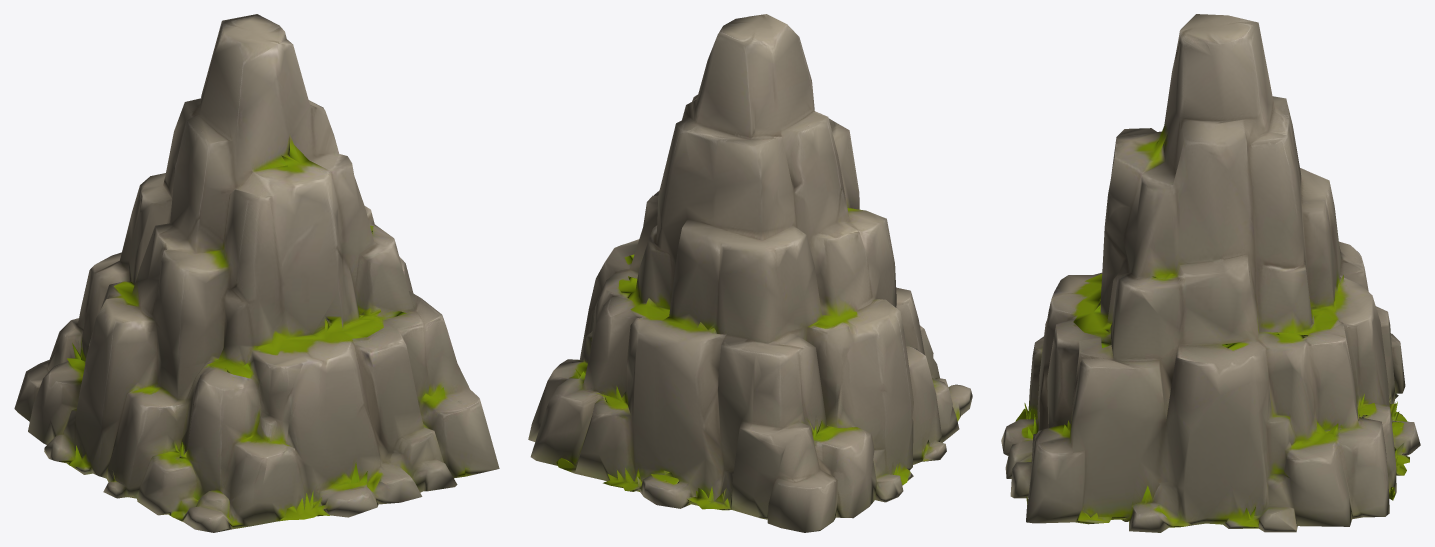
The model's file is mountain_peak_medium.glb.
3 views of the same model, side by side, from view 1: azimuth 30°, elevation 25°; view 2: azimuth 150°, elevation 25°; view 3: azimuth 270°, elevation 25° (orthographic). The views are drawn at different scales.
Parts seen in each view (by area): view 1: tripo_node_cd451c95-be88-4810-af8e-35bb54dc862a; view 2: tripo_node_cd451c95-be88-4810-af8e-35bb54dc862a; view 3: tripo_node_cd451c95-be88-4810-af8e-35bb54dc862a.
Part boxes in pixels (x1,y1,x2,y2): tripo_node_cd451c95-be88-4810-af8e-35bb54dc862a: (14, 14, 499, 532); tripo_node_cd451c95-be88-4810-af8e-35bb54dc862a: (528, 14, 972, 532); tripo_node_cd451c95-be88-4810-af8e-35bb54dc862a: (1001, 14, 1420, 532).
Size of the model in its own units: 0.8934 by 1 by 0.905.
1 material, 1 textured.
